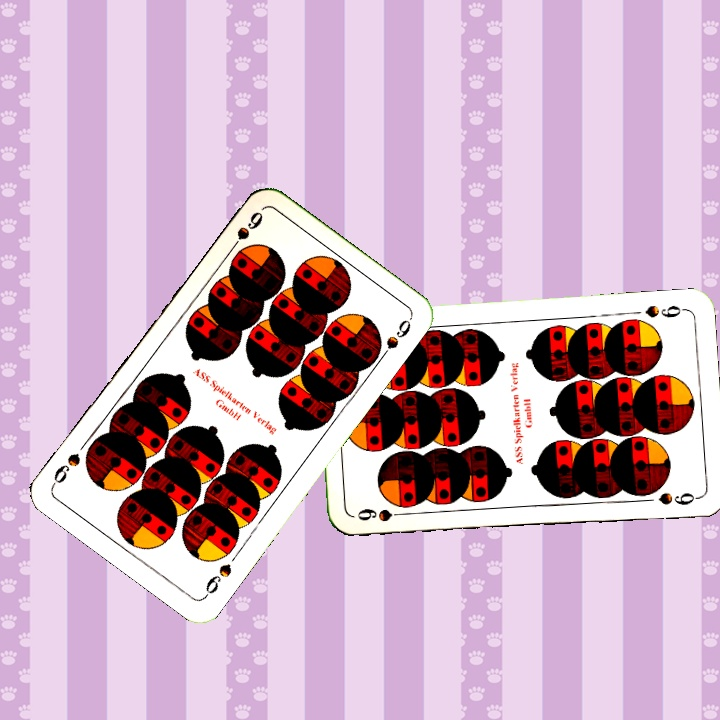S9: (223, 207, 266, 258), (200, 559, 235, 601), (353, 504, 411, 525), (641, 301, 688, 321)
